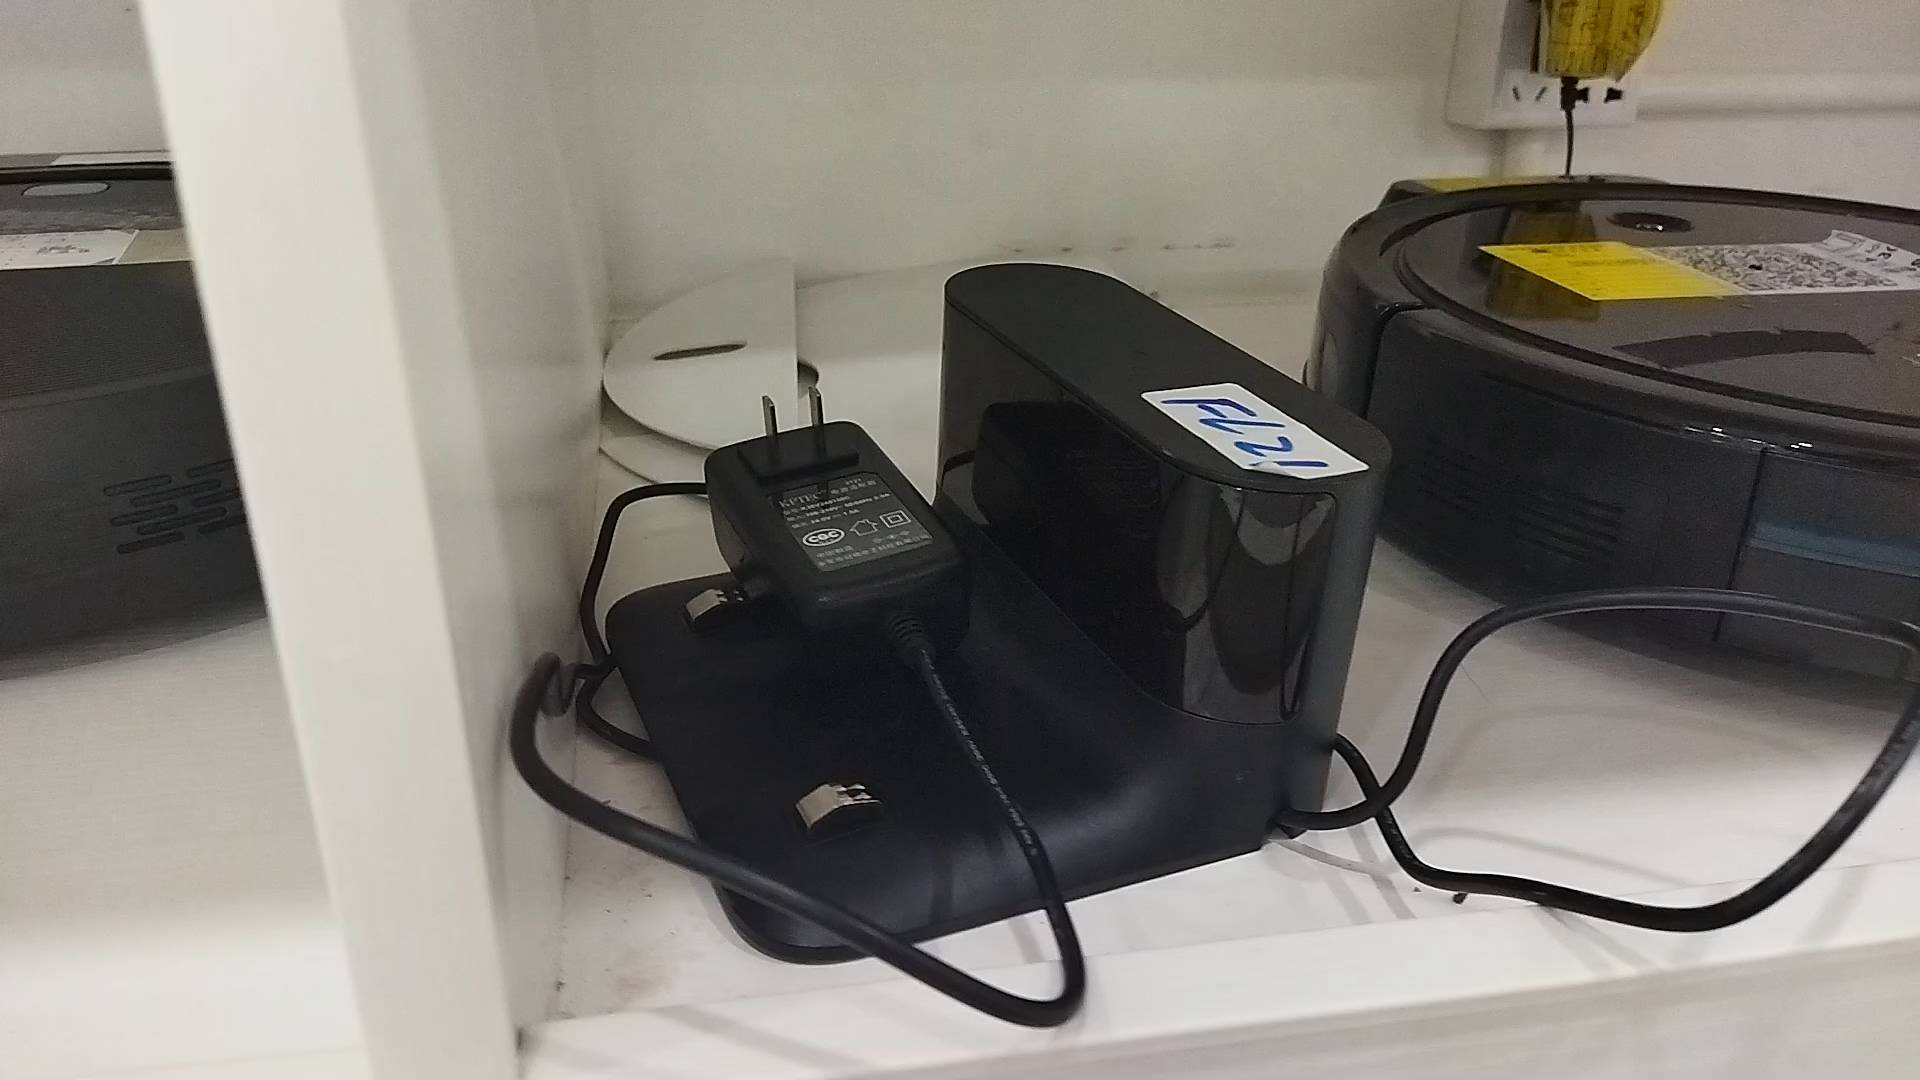recharge seat: (608, 266, 1394, 964)
